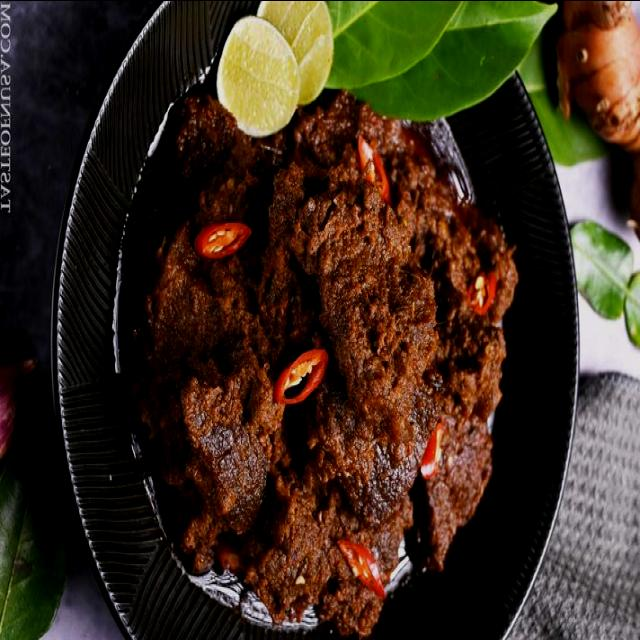rendang: (111, 85, 521, 636)
